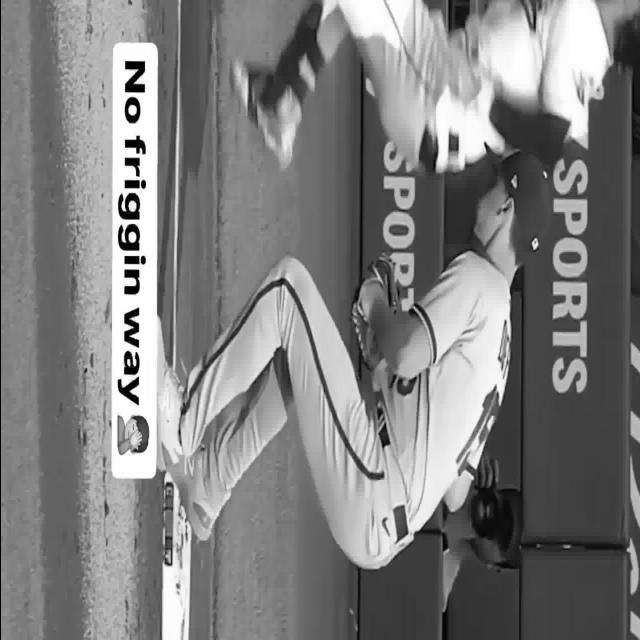base: (161, 473, 191, 640)
baseball_glove: (350, 293, 380, 371), (368, 256, 401, 311)
shoe: (229, 58, 296, 169), (166, 449, 218, 540), (156, 318, 184, 471)
